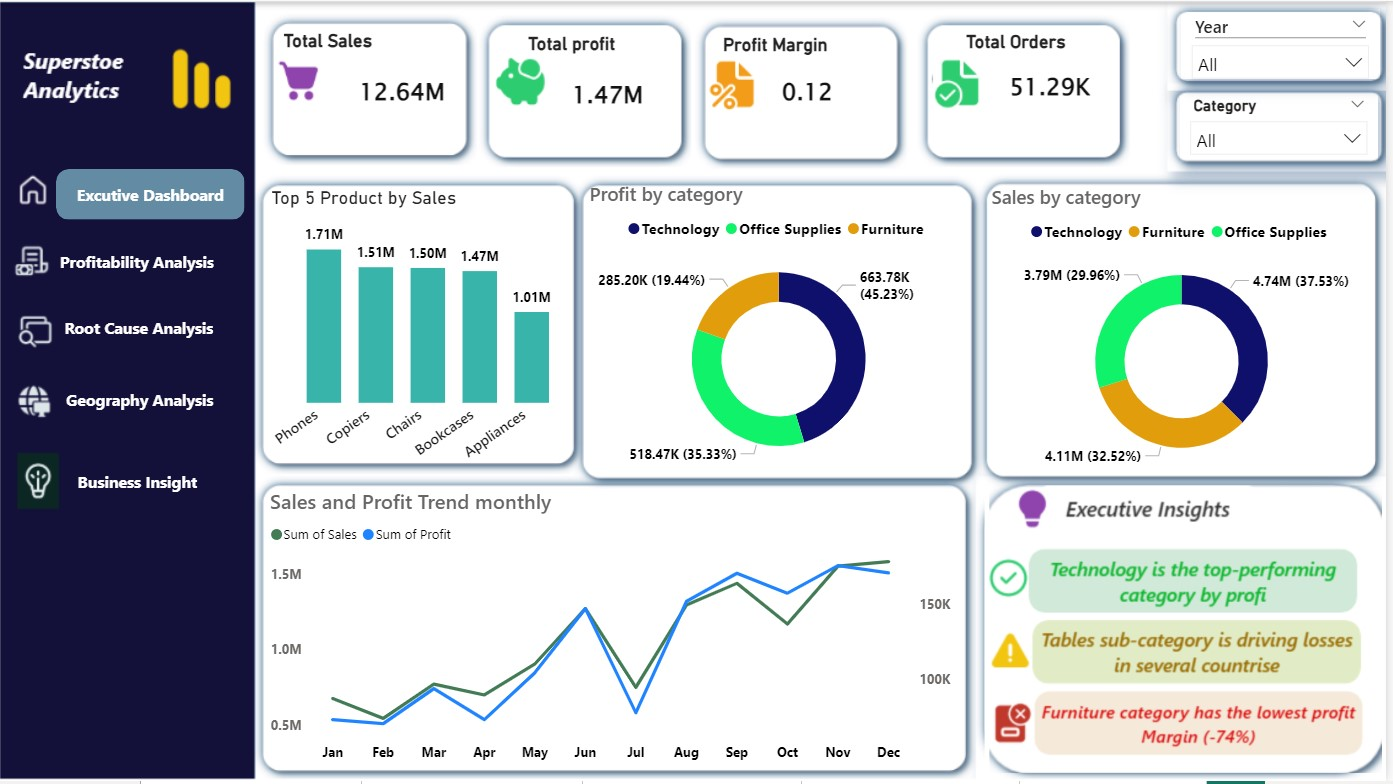

The dashboard page shown, as its layout file describes it:
{"tool":"powerbi","page":{"name":"Excutive Dashboard","canvas":[1280,720],"ordinal":0},"visuals":[{"type":"shape","box":[53,154.4,174.1,46.9],"z":0},{"type":"shape","box":[27.3,278.6,202.9,46.9],"z":1000},{"type":"shape","box":[19.7,345.2,221.1,46.9],"z":2000},{"type":"shape","box":[25.7,420.9,202.9,45.4],"z":3000},{"type":"shape","box":[24.2,216.5,207.4,48.5],"z":4000},{"type":"cardVisual","title":"Profit Margin","fields":{"Data":["Avg(Fact_sales.Profit)"]},"box":[678.4,30.3,146.9,95.4],"z":5000},{"type":"cardVisual","title":"Total Orders","fields":{"Data":["CountNonNull(Fact_sales.Order ID)"]},"box":[887.3,27.3,165,81.8],"z":6000},{"type":"slicer","fields":{"Values":["Date.Year"]},"box":[1091.7,6.7,183.3,65],"z":7000},{"type":"lineChart","title":"Sales and Profit Trend monthly","fields":{"Y":["Sum(Fact_sales.Sales)"],"Y2":["Sum(Fact_sales.Profit)"],"Category":["Date.Column 2"]},"box":[245,446.7,638.3,265],"z":8000},{"type":"donutChart","title":"Sales by category","fields":{"Category":["Dim_product.Category"],"Y":["Sum(Fact_sales.Sales)"]},"box":[911.6,169.6,360.4,274.1],"z":9000},{"type":"columnChart","title":"Top 5 Product by Sales","fields":{"Y":["Sum(Fact_sales.Sales)"],"Category":["Dim_product.Sub-Category"]},"box":[247,171.3,286.8,270.9],"z":10000},{"type":"slicer","fields":{"Values":["Dim_product.Category"]},"box":[1090,83.3,183.3,65],"z":11000},{"type":"donutChart","title":"Profit by category","fields":{"Category":["Dim_product.Category"],"Y":["Sum(Fact_sales.Profit)"]},"box":[540.6,166.6,358.9,275.6],"z":12000},{"type":"cardVisual","title":"Total Sales","fields":{"Data":["measuress.total sales"]},"box":[257.4,25.7,183.2,93.9],"z":13000},{"type":"cardVisual","title":"Total profit","fields":{"Data":["measuress.total profit"]},"box":[483,28.8,157.5,93.9],"z":14000},{"type":"image","box":[910,446.7,370,265],"z":15000}]}

Visuals, with their boxes in screenshot pixels (x1, y1, x2, y2), scaled from the page's 1280x720 canvas onto the 1393x784 screenshot:
shape: bbox(58, 168, 247, 219)
shape: bbox(30, 303, 251, 354)
shape: bbox(21, 376, 262, 427)
shape: bbox(28, 458, 249, 508)
shape: bbox(26, 236, 252, 289)
"Profit Margin" cardVisual: bbox(738, 33, 898, 137)
"Total Orders" cardVisual: bbox(966, 30, 1145, 119)
slicer - Date.Year: bbox(1188, 7, 1388, 78)
"Sales and Profit Trend monthly" lineChart: bbox(267, 486, 961, 775)
"Sales by category" donutChart: bbox(992, 185, 1384, 483)
"Top 5 Product by Sales" columnChart: bbox(269, 187, 581, 482)
slicer - Dim_product.Category: bbox(1186, 91, 1386, 161)
"Profit by category" donutChart: bbox(588, 181, 979, 482)
"Total Sales" cardVisual: bbox(280, 28, 479, 130)
"Total profit" cardVisual: bbox(526, 31, 697, 134)
image: bbox(990, 486, 1392, 775)
